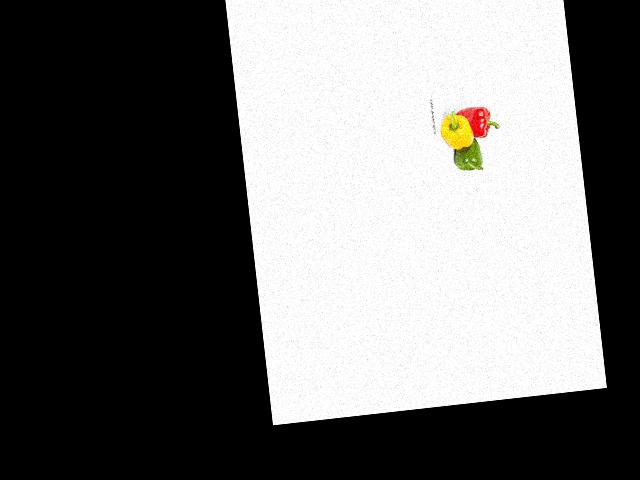bell_pepper: (456, 101, 500, 140)
